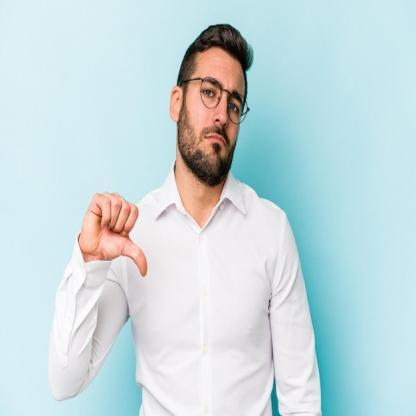thumb_down: (75, 186, 150, 280)
